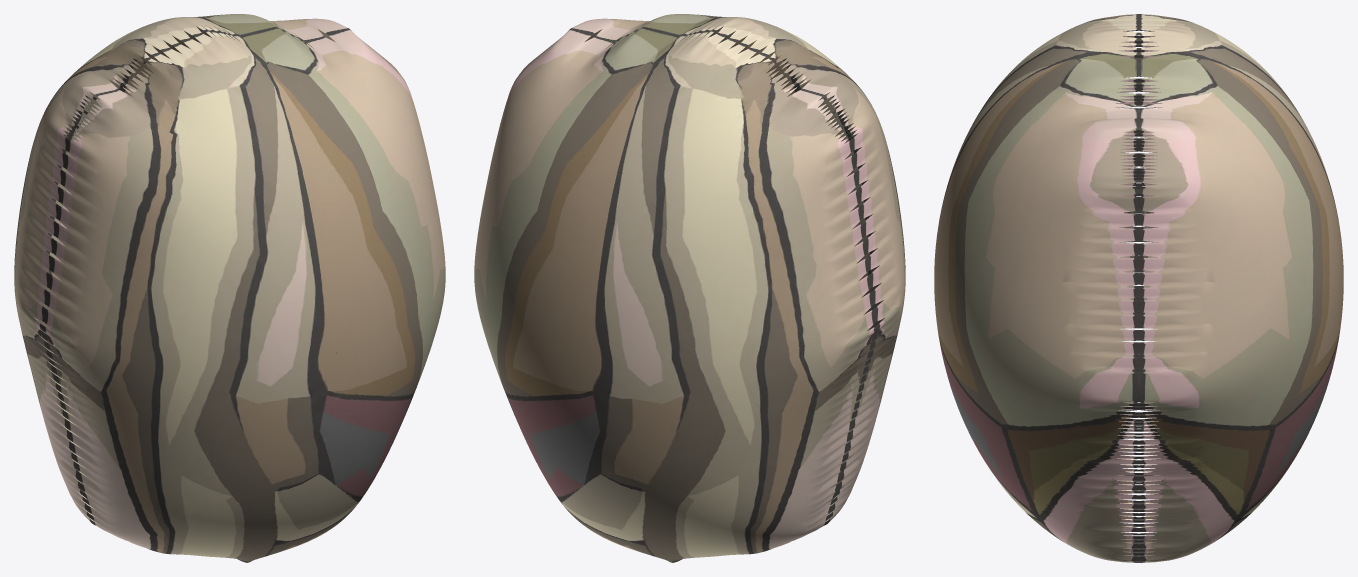
Rendered from ochre_crown.glb.
3 views of the same model, side by side, from view 1: azimuth 30°, elevation 25°; view 2: azimuth 150°, elevation 25°; view 3: azimuth 270°, elevation 25° (orthographic). The views are drawn at different scales.
Parts seen in each view (by area): view 1: ochre_crown; view 2: ochre_crown; view 3: ochre_crown.
Part boxes in pixels (box(x1,y1,x2,y2)): ochre_crown: box(14, 14, 445, 562); ochre_crown: box(474, 14, 905, 562); ochre_crown: box(934, 14, 1343, 562).
Bounding box in the file's own units: 0.9854 × 1.3 × 0.9667.
1 material, 1 textured.
